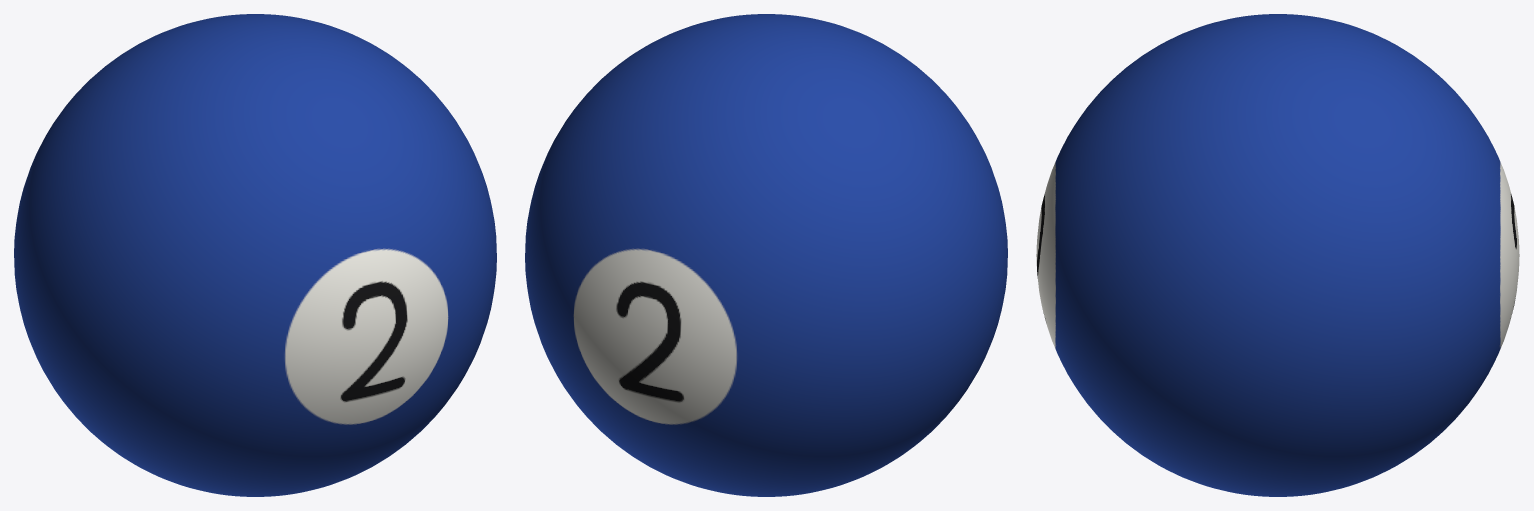
The model's file is ball-02.gltf.
The picture shows the model from 3 angles, left to right: view 1: azimuth 30°, elevation 25°; view 2: azimuth 150°, elevation 25°; view 3: azimuth 270°, elevation 25°; orthographic projection.
Visible parts, largest first — view 1: Ball_02; view 2: Ball_02; view 3: Ball_02.
Boxes of the visible parts, <box> form: Ball_02: <box>14,14,496,496</box>; Ball_02: <box>525,14,1007,496</box>; Ball_02: <box>1036,14,1519,496</box>.
Bounding box in the file's own units: 0.1 × 0.1 × 0.1.
Materials: 1 (1 with a texture image).
